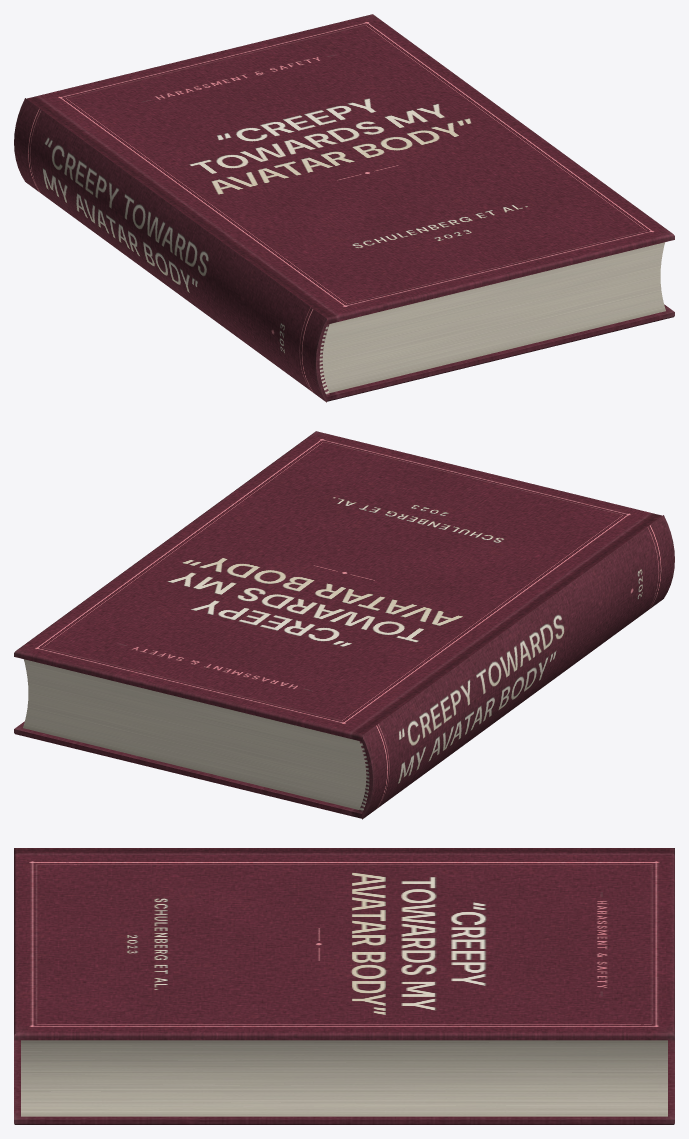
Rendered from schulenberg-2023.glb.
3 views of the same model, one above another, from view 1: azimuth 30°, elevation 25°; view 2: azimuth 150°, elevation 25°; view 3: azimuth 270°, elevation 25° (orthographic). The views are drawn at different scales.
Visible parts, largest first — view 1: schulenberg-2023; view 2: schulenberg-2023; view 3: schulenberg-2023.
Boxes of the visible parts, <box> form: schulenberg-2023: <box>14,14,674,402</box>; schulenberg-2023: <box>14,431,674,819</box>; schulenberg-2023: <box>14,848,674,1124</box>.
Bounding box in the file's own units: 0.1924 × 0.043 × 0.28.
4 materials, 4 textured.
